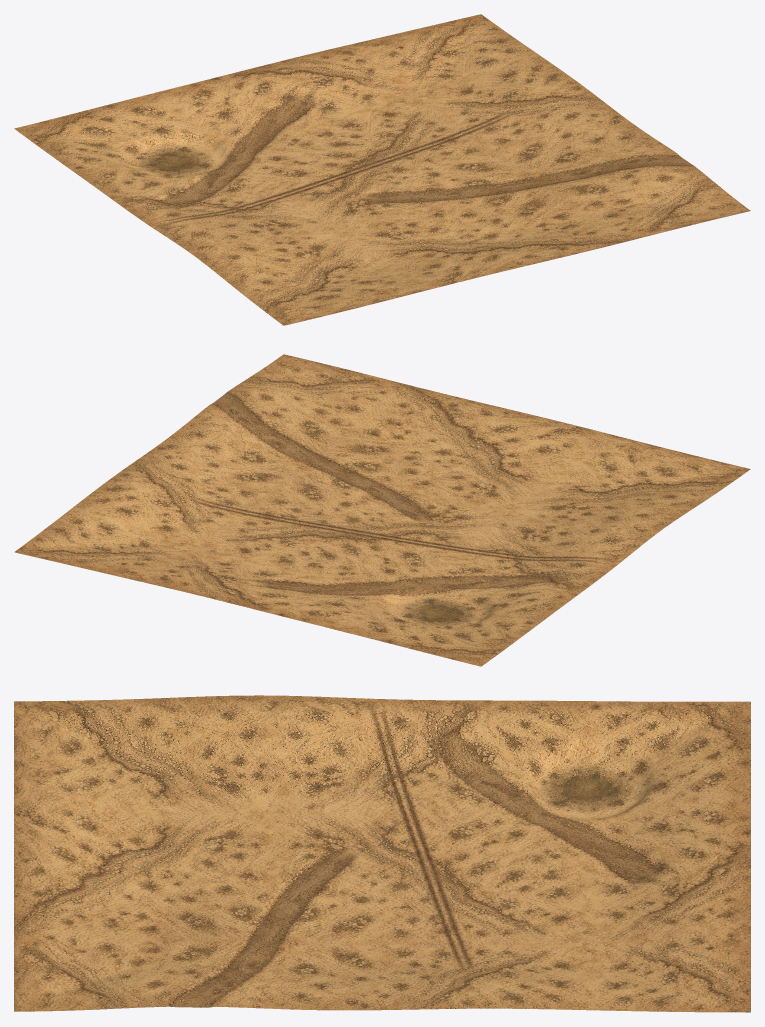
File: dry-gulch-terrain.glb
3 views of the same model, one above another, from view 1: azimuth 30°, elevation 25°; view 2: azimuth 150°, elevation 25°; view 3: azimuth 270°, elevation 25° (orthographic). The views are drawn at different scales.
Parts seen in each view (by area): view 1: DryGulchTerrain; view 2: DryGulchTerrain; view 3: DryGulchTerrain.
Boxes of the visible parts, left/top/right/bottom form: DryGulchTerrain: left=14, top=14, right=750, bottom=325; DryGulchTerrain: left=14, top=354, right=750, bottom=666; DryGulchTerrain: left=14, top=695, right=750, bottom=1012.
Bounding box in the file's own units: 64 × 3.02 × 64.
Materials: 1 (1 with a texture image).
